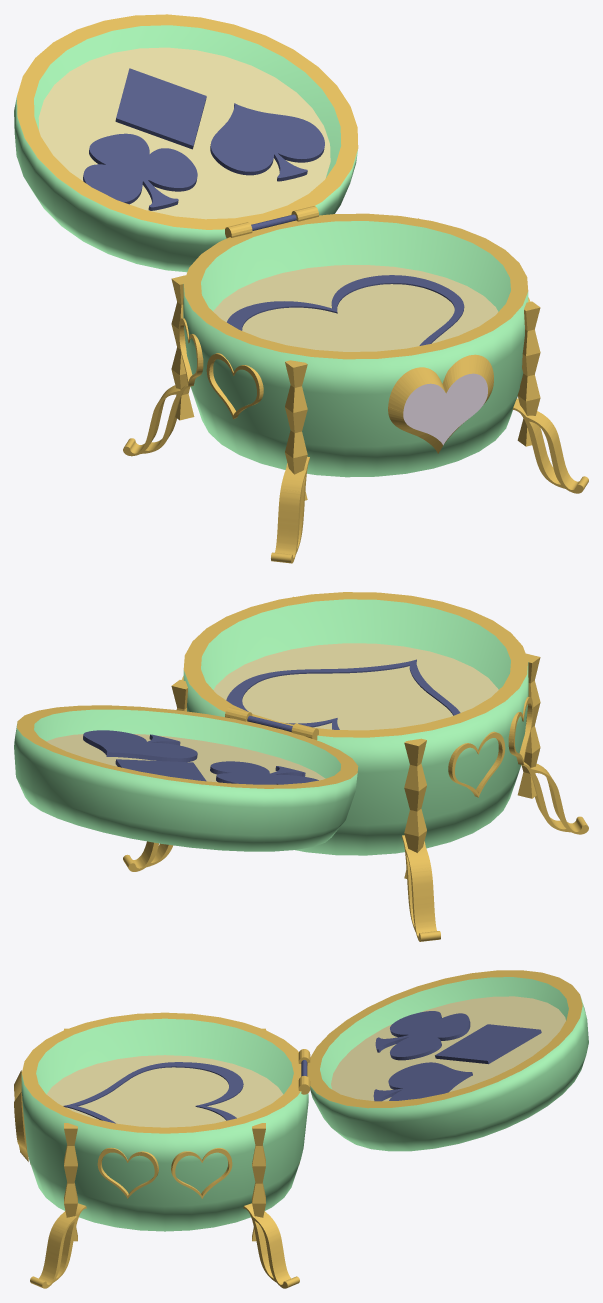
Rendered from musicBox2.fbx.
3 views of the same model, one above another, from view 1: azimuth 30°, elevation 25°; view 2: azimuth 150°, elevation 25°; view 3: azimuth 270°, elevation 25° (orthographic). The views are drawn at different scales.
Parts seen in each view (by area): view 1: musicBox2; view 2: musicBox2; view 3: musicBox2.
Part boxes in pixels (box(x1,y1,x2,y2)): musicBox2: box(14, 14, 588, 563); musicBox2: box(14, 592, 588, 941); musicBox2: box(14, 970, 588, 1288).
Size of the model in its own units: 787 by 628 by 1485.
